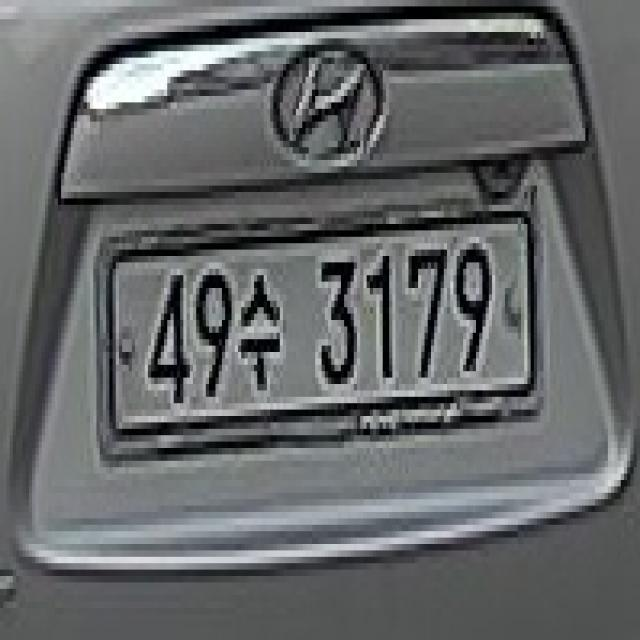1: (366, 248, 398, 388)
3: (317, 248, 363, 392)
4: (144, 263, 191, 415)
7: (409, 240, 452, 390)
9: (194, 263, 234, 404), (455, 230, 492, 378)
license_plate: (88, 204, 544, 436)
su: (238, 261, 288, 399)
